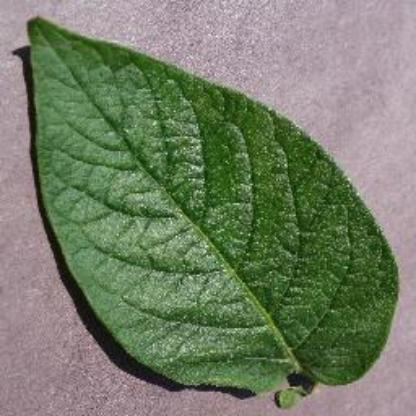Healthy-plant: (9, 13, 401, 406)
